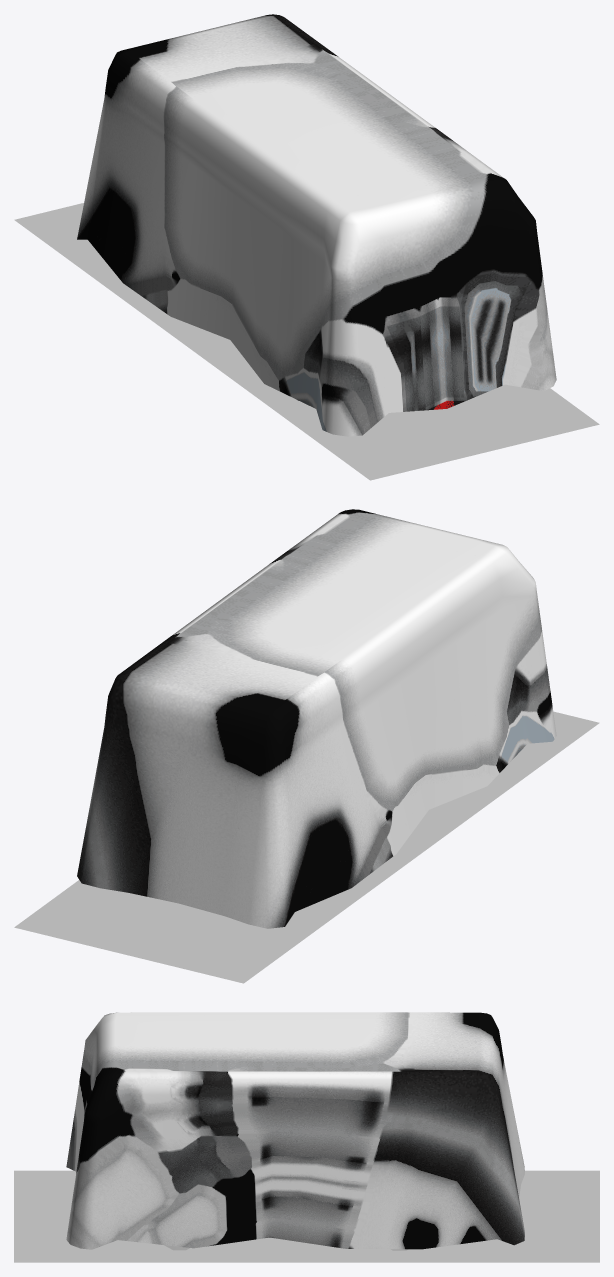
The model's file is Bus.fbx.
3 renders of one model, top to bottom at view 1: azimuth 30°, elevation 25°; view 2: azimuth 150°, elevation 25°; view 3: azimuth 270°, elevation 25°, orthographic. The views are drawn at different scales.
Visible parts, largest first — view 1: Bus_Hidden, Bus_FakeShadow; view 2: Bus_Hidden, Bus_FakeShadow; view 3: Bus_Hidden, Bus_FakeShadow.
Boxes of the visible parts, x1=… form: Bus_Hidden: x1=77, y1=14, x2=556, y2=436; Bus_FakeShadow: x1=14, y1=203, x2=599, y2=480; Bus_Hidden: x1=77, y1=509, x2=556, y2=928; Bus_FakeShadow: x1=14, y1=711, x2=599, y2=983; Bus_Hidden: x1=66, y1=1012, x2=524, y2=1249; Bus_FakeShadow: x1=14, y1=1170, x2=599, y2=1262.
Bounding box in the file's own units: 1.37 × 1.2 × 3.66.
